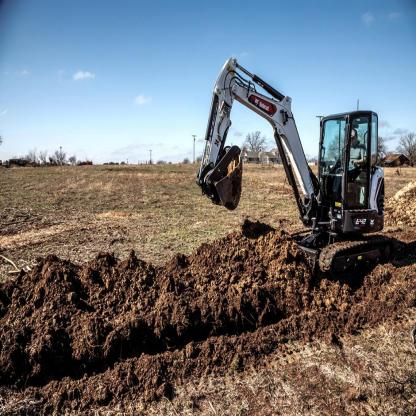excavator: (190, 51, 400, 287)
